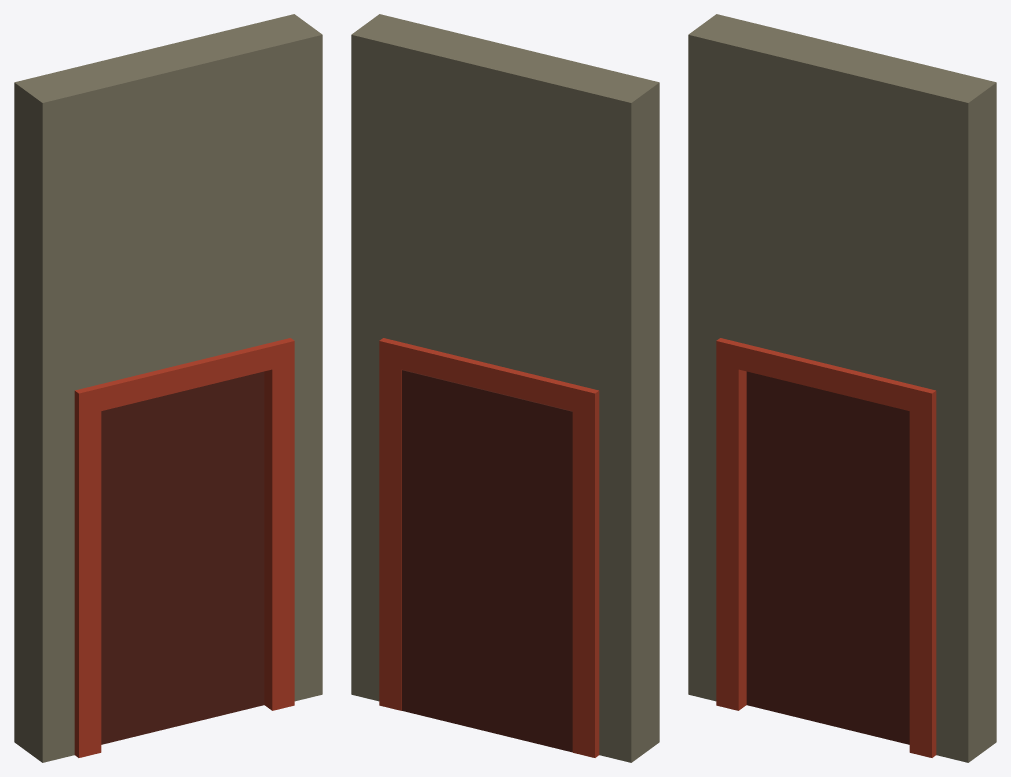
File: TruePuerta.fbx
3 views of the same model, side by side, from view 1: azimuth 30°, elevation 25°; view 2: azimuth 150°, elevation 25°; view 3: azimuth 330°, elevation 25° (orthographic).
Visible parts, largest first — view 1: MarcoPuerta, Puerta; view 2: MarcoPuerta, Puerta; view 3: MarcoPuerta, Puerta.
Boxes of the visible parts, x1=… form: MarcoPuerta: x1=14, y1=14, x2=322, y2=762; Puerta: x1=101, y1=371, x2=264, y2=744; MarcoPuerta: x1=351, y1=14, x2=659, y2=762; Puerta: x1=402, y1=369, x2=572, y2=752; MarcoPuerta: x1=688, y1=14, x2=996, y2=762; Puerta: x1=746, y1=371, x2=909, y2=744.
Bounding box in the file's own units: 400 × 900 × 90.67.
